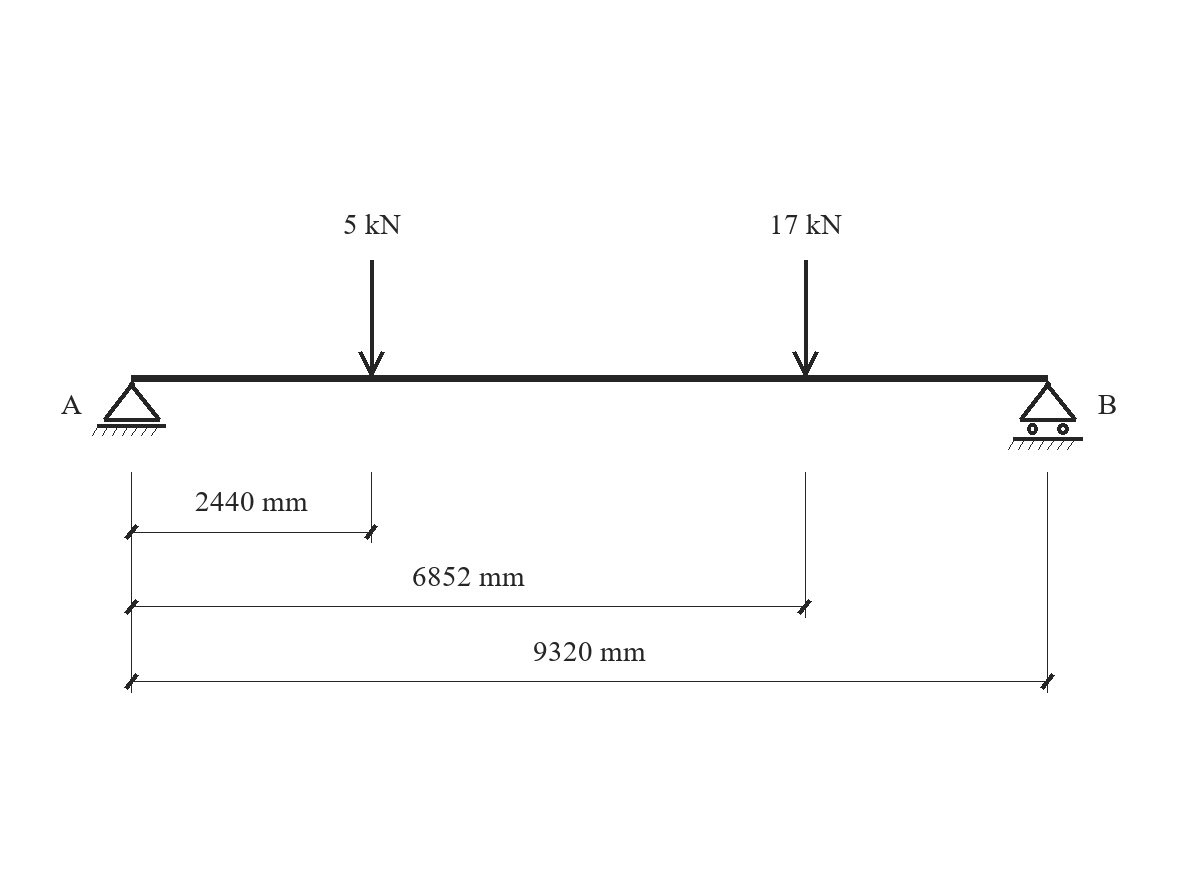pin_support: (92, 381, 166, 436)
point_load: (358, 260, 385, 376), (792, 260, 819, 376)
roller_support: (1008, 381, 1083, 450)
